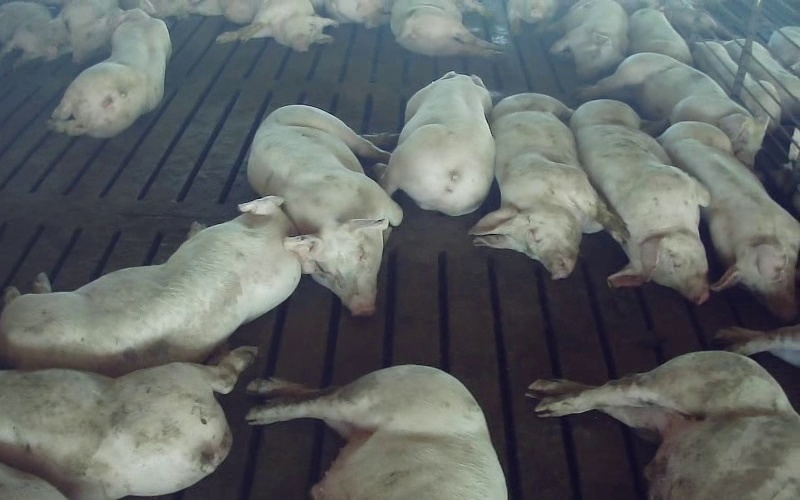pig: (0, 196, 300, 375), (530, 351, 799, 499), (0, 346, 256, 499), (246, 365, 506, 499), (248, 105, 402, 314), (469, 93, 626, 278), (570, 99, 709, 303), (658, 121, 799, 320), (580, 53, 766, 166), (375, 72, 494, 215), (628, 8, 692, 64)
